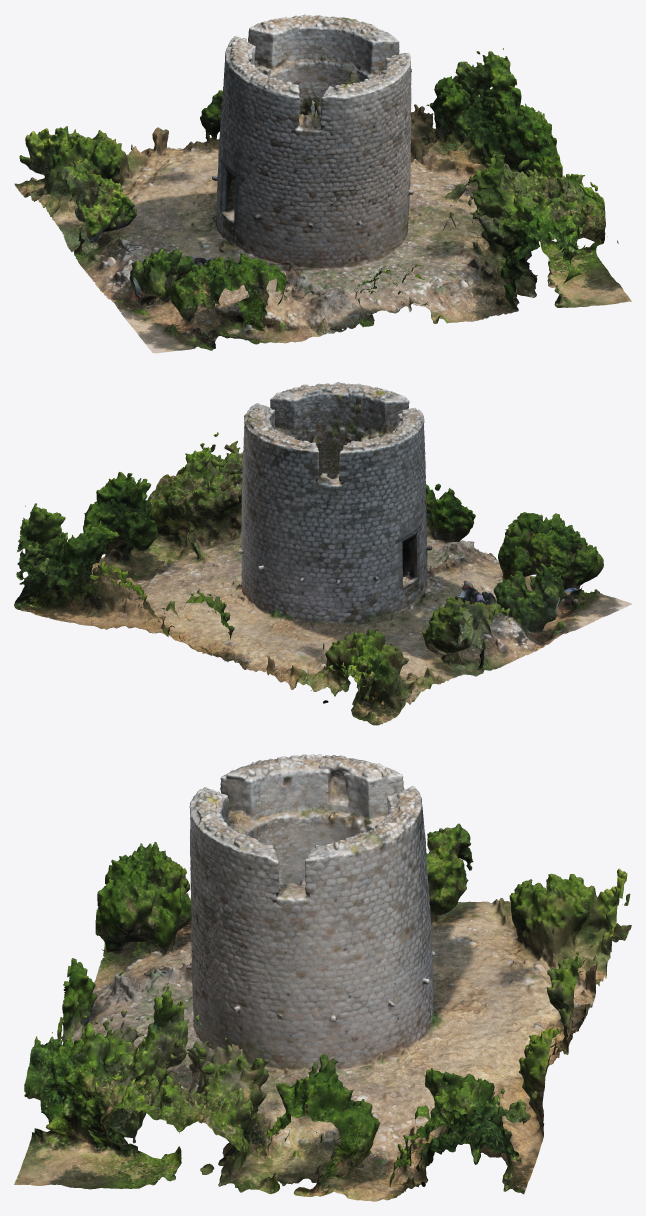
Rendered from Mill.glb.
3 views of the same model, one above another, from view 1: azimuth 30°, elevation 25°; view 2: azimuth 150°, elevation 25°; view 3: azimuth 270°, elevation 25° (orthographic). The views are drawn at different scales.
Parts seen in each view (by area): view 1: mesh_0; view 2: mesh_0; view 3: mesh_0.
Boxes of the visible parts, x1,y1,x2,y2 form: mesh_0: [14, 14, 631, 353]; mesh_0: [14, 382, 631, 725]; mesh_0: [14, 754, 631, 1201].
Size of the model in its own units: 21.22 by 10.07 by 18.5.
Materials: 1 (1 with a texture image).
